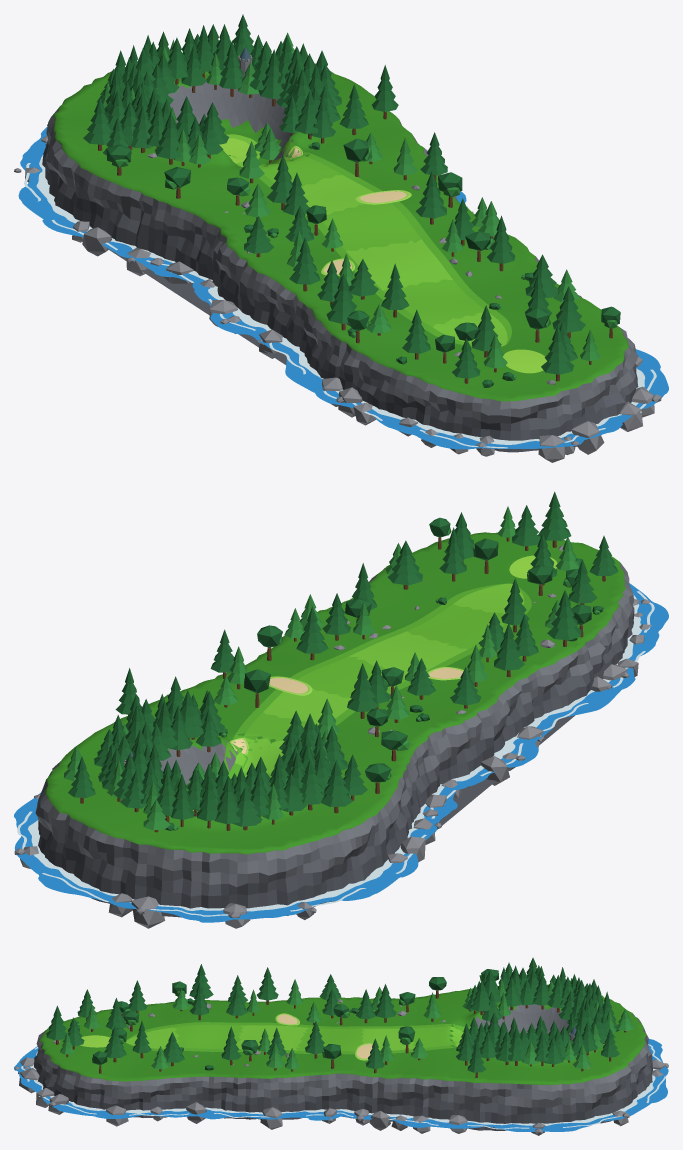
File: hole_14.fbx
3 renders of one model, top to bottom at view 1: azimuth 30°, elevation 25°; view 2: azimuth 150°, elevation 25°; view 3: azimuth 270°, elevation 25°, orthographic. The views are drawn at different scales.
Parts seen in each view (by area): view 1: TERRAIN_ISLAND_1, TREES, FAIRWAY, WATER_SHALLOW_1, ROCKS, FAIRWAY_FIRSTCUT, WATER_FOAM_1, WATER_FOAM_CREST_1, TEE_BOX; view 2: TERRAIN_ISLAND_1, TREES, FAIRWAY, WATER_SHALLOW_1, ROCKS, WATER_FOAM_1, FAIRWAY_FIRSTCUT, WATER_FOAM_CREST_1; view 3: TERRAIN_ISLAND_1, TREES, FAIRWAY, WATER_SHALLOW_1, ROCKS, FAIRWAY_FIRSTCUT, WATER_FOAM_1, WATER_FOAM_CREST_1, TEE_BOX.
Boxes of the visible parts, <box> form: TERRAIN_ISLAND_1: <box>42,63,638,452</box>; TREES: <box>83,14,620,387</box>; FAIRWAY: <box>242,156,507,346</box>; WATER_SHALLOW_1: <box>18,127,668,449</box>; ROCKS: <box>14,136,661,462</box>; FAIRWAY_FIRSTCUT: <box>234,141,511,346</box>; WATER_FOAM_1: <box>36,155,645,444</box>; WATER_FOAM_CREST_1: <box>24,163,656,448</box>; TEE_BOX: <box>503,349,547,373</box>; TERRAIN_ISLAND_1: <box>35,532,634,917</box>; TREES: <box>64,491,618,832</box>; FAIRWAY: <box>234,583,524,777</box>; WATER_SHALLOW_1: <box>14,583,668,922</box>; ROCKS: <box>14,545,652,928</box>; WATER_FOAM_1: <box>28,594,641,911</box>; FAIRWAY_FIRSTCUT: <box>224,583,531,778</box>; WATER_FOAM_CREST_1: <box>17,591,654,916</box>; TERRAIN_ISLAND_1: <box>34,984,652,1130</box>; TREES: <box>46,957,634,1077</box>; FAIRWAY: <box>126,1025,463,1051</box>; WATER_SHALLOW_1: <box>14,1039,668,1131</box>; ROCKS: <box>14,999,668,1135</box>; FAIRWAY_FIRSTCUT: <box>126,1022,478,1054</box>; WATER_FOAM_1: <box>30,1051,658,1125</box>; WATER_FOAM_CREST_1: <box>21,1044,666,1129</box>; TEE_BOX: <box>80,1035,110,1047</box>.
Size of what is drawn, in the model's own units: 229 by 85.04 by 511.
